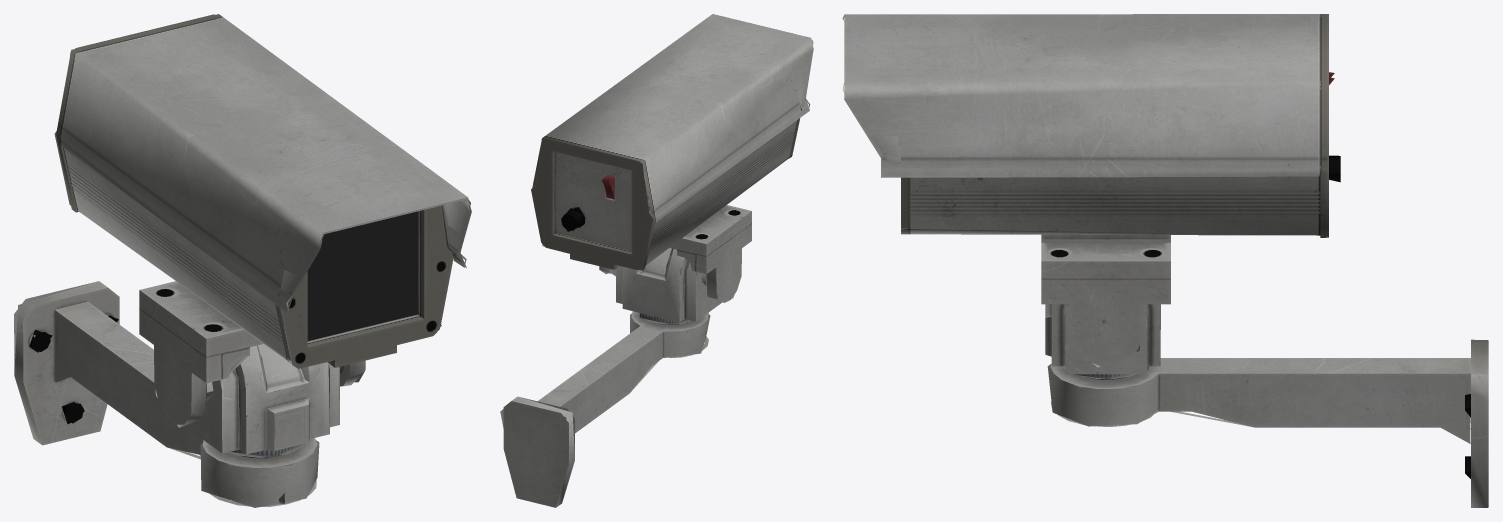
The model's file is cctv.gltf.
3 renders of one model, left to right at view 1: azimuth 30°, elevation 25°; view 2: azimuth 150°, elevation 25°; view 3: azimuth 270°, elevation 25°, orthographic. The views are drawn at different scales.
Visible parts, largest first — view 1: Object_3, Object_2; view 2: Object_3; view 3: Object_3.
Boxes of the visible parts, x1,y1,x2,y2 form: Object_3: (14,14,471,507); Object_2: (307,211,417,340); Object_3: (500,14,813,507); Object_3: (842,14,1488,507).
Size of the model in its own units: 0.2514 by 0.612 by 0.8033.
Materials: 1 (1 with a texture image).
